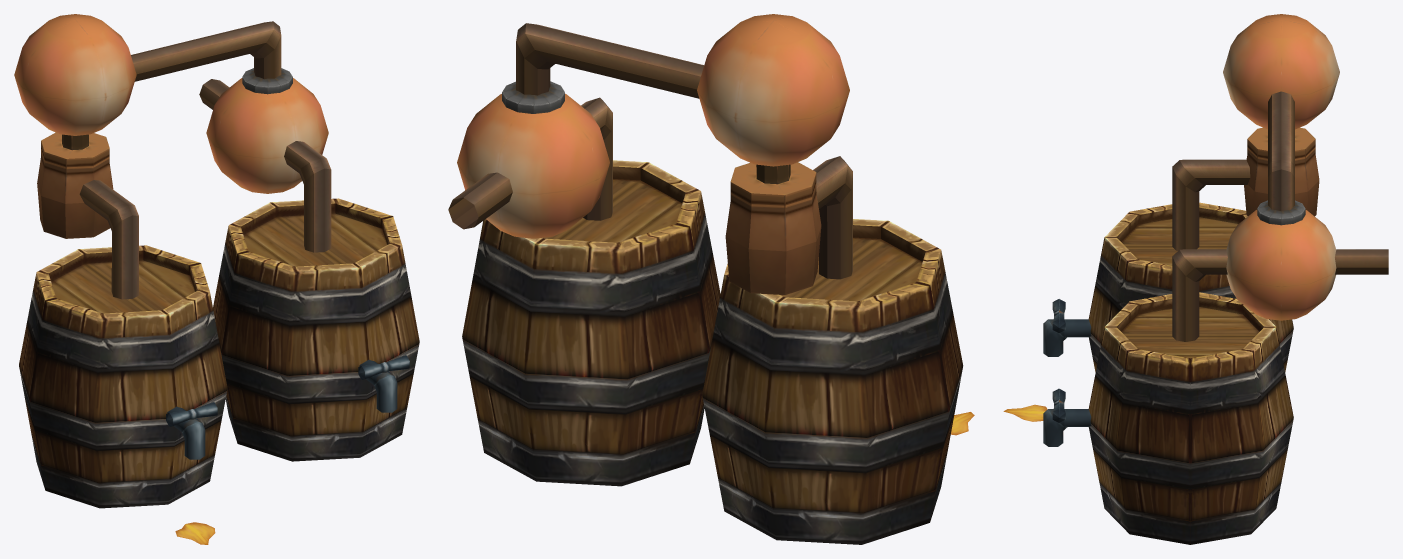
The model's file is JiuTong01.FBX.
3 renders of one model, left to right at view 1: azimuth 30°, elevation 25°; view 2: azimuth 150°, elevation 25°; view 3: azimuth 270°, elevation 25°, orthographic. The views are drawn at different scales.
Visible parts, largest first — view 1: jiutong01; view 2: jiutong01; view 3: jiutong01.
Part boxes in pixels (x1,y1,x2,y2): jiutong01: (14, 14, 419, 544); jiutong01: (448, 14, 974, 544); jiutong01: (1003, 14, 1388, 544).
Size of the model in its own units: 235 by 247 by 216.
